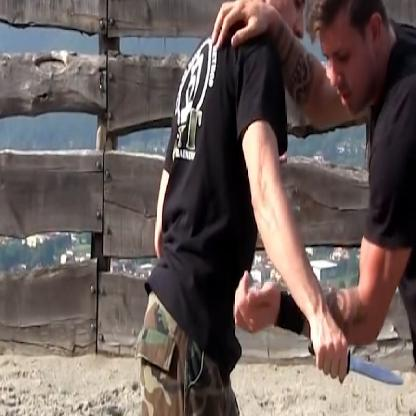knife: (303, 329, 407, 392)
